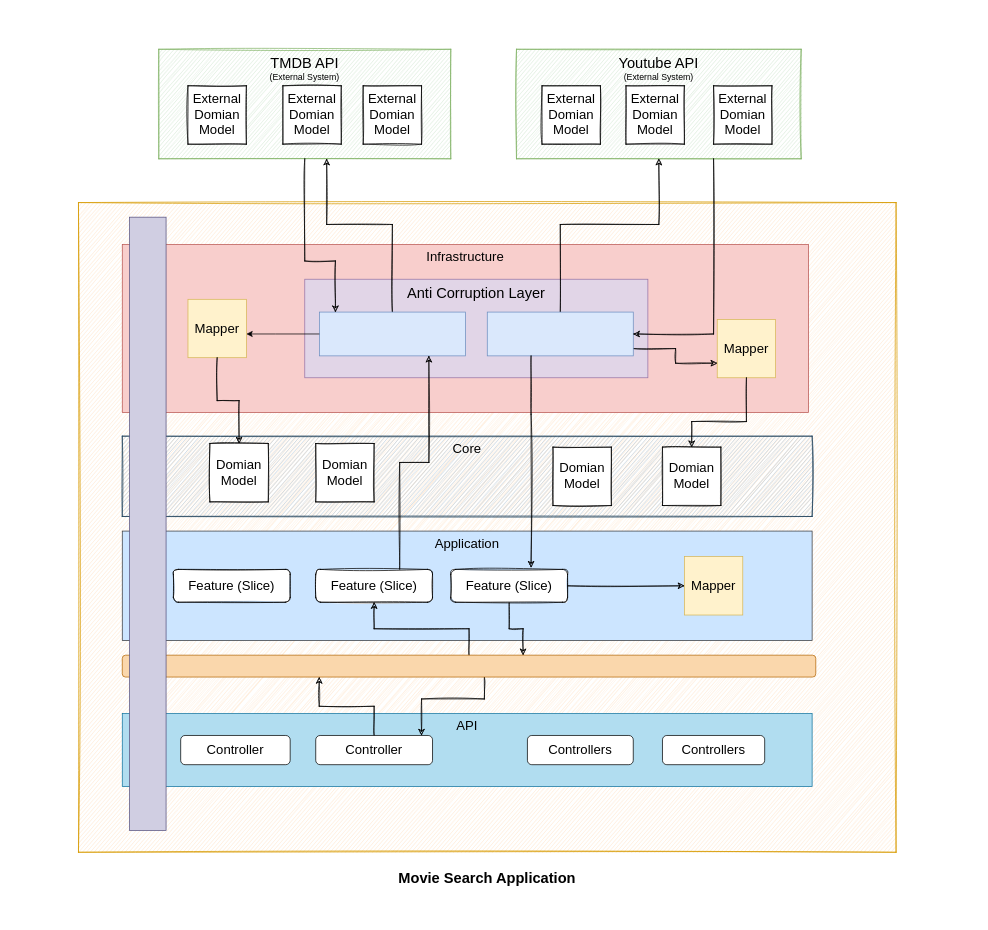
The diagram is 988 pixels wide and 930 high, and some of its shapes have lost their labels. The shapes that lost their labels are listed below. From the top down, each one's centre as x and y in pixels, then its label:
point (392, 333): TMDBServiceClient
point (560, 333): YoutubeVideoServiceClient
point (147, 523): Slice
point (469, 665): Mediator
